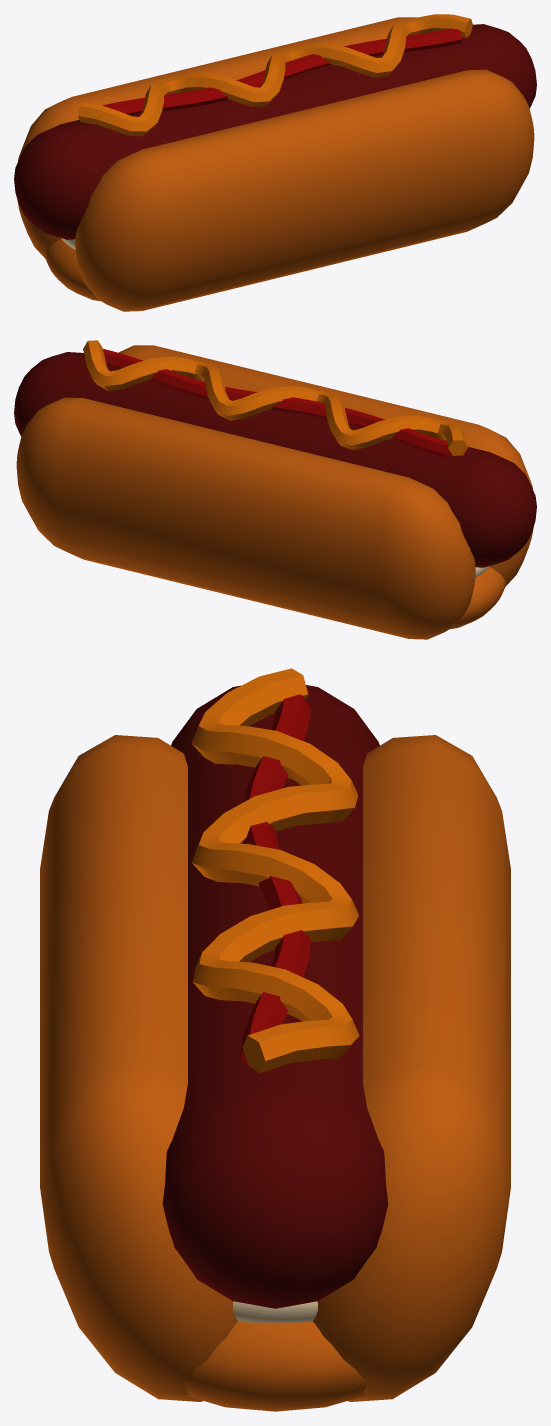
The model's file is HotDog.obj.
The picture shows the model from 3 angles, top to bottom: view 1: azimuth 30°, elevation 25°; view 2: azimuth 150°, elevation 25°; view 3: azimuth 270°, elevation 25°; orthographic projection. The views are drawn at different scales.
Parts seen in each view (by area): view 1: HotDog; view 2: HotDog; view 3: HotDog.
Part boxes in pixels (x1=…): HotDog: x1=14, y1=14, x2=536, y2=311; HotDog: x1=14, y1=340, x2=536, y2=639; HotDog: x1=40, y1=668, x2=510, y2=1411.
Bounding box in the file's own units: 2 × 0.7165 × 0.8033.
